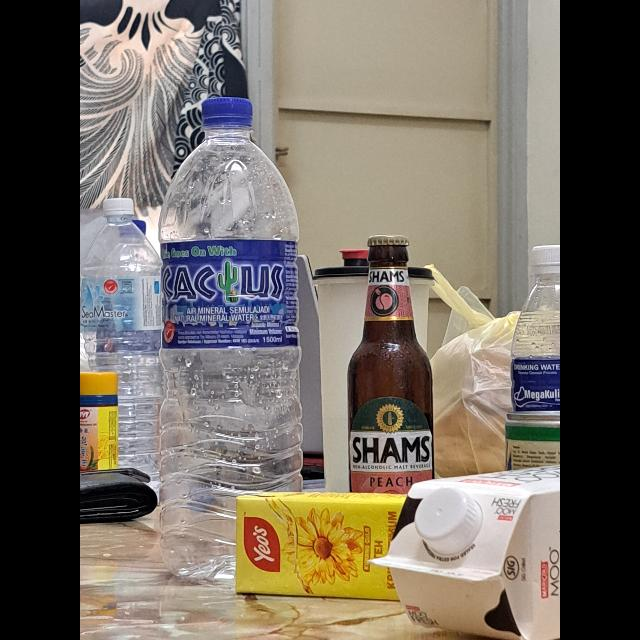caixinha: (366, 462, 560, 640), (236, 491, 414, 602)
garrafa de vidro: (347, 234, 435, 492)
garrafa plástica: (160, 127, 304, 583), (80, 216, 164, 478), (510, 276, 560, 412)
lata: (508, 409, 560, 471)
tampa plástica: (413, 488, 482, 554), (200, 98, 252, 126), (530, 244, 560, 274), (102, 198, 136, 214)
